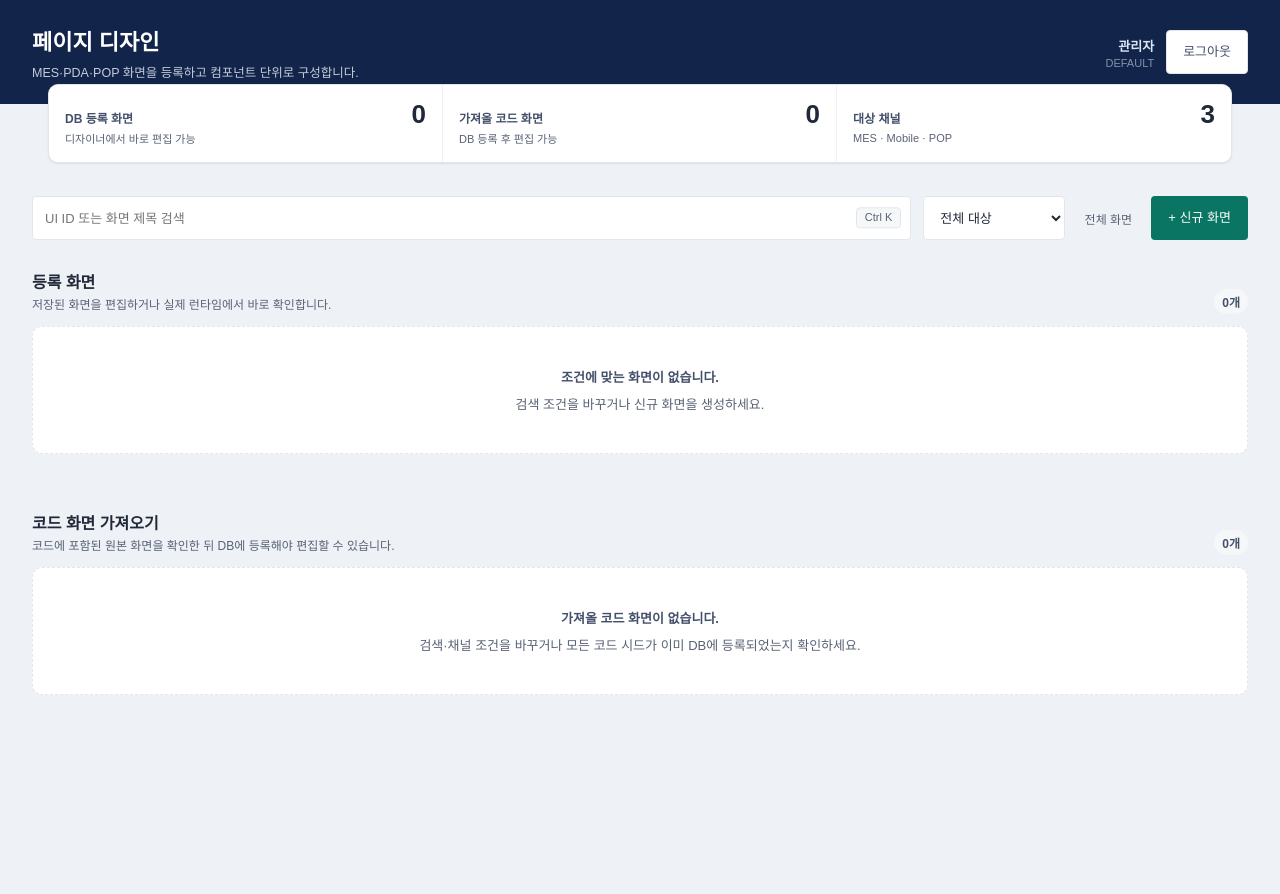
Scenario: DesignerHome › 목록에 없는 코드 시드 alias도 서버 canonical 조회로 찾아 빈 화면 생성을 차단
Expected: the text "조건에 맞는 화면이 없습니다." is shown, [561,370,719,385]
Step 1. Click the button "+ 신규 화면" → x=1200, y=218, box [1151,196,1248,240]
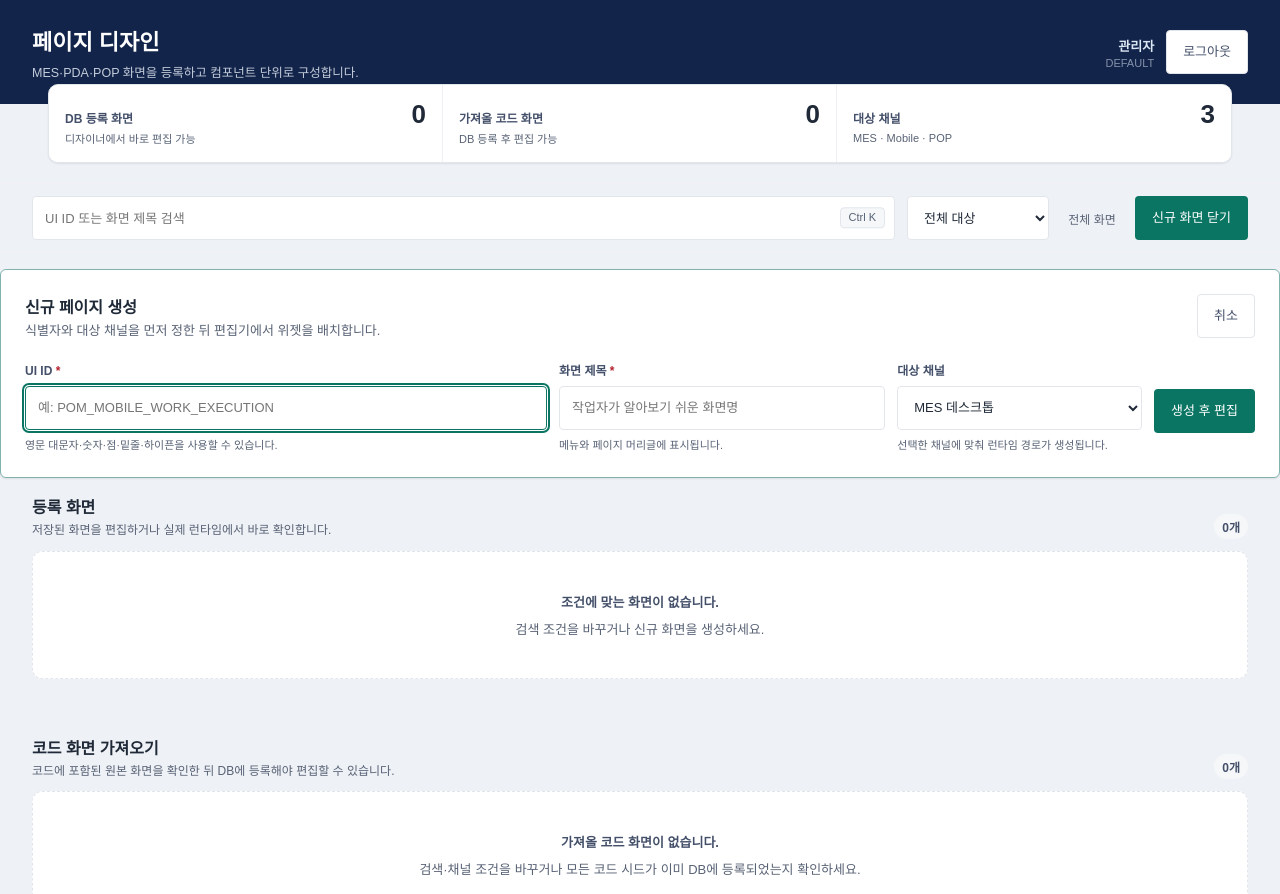
Step 2. Type "SLS_ORDER_ALIAS" into the field labelled "UI ID" → x=286, y=408, box [25,386,547,430]
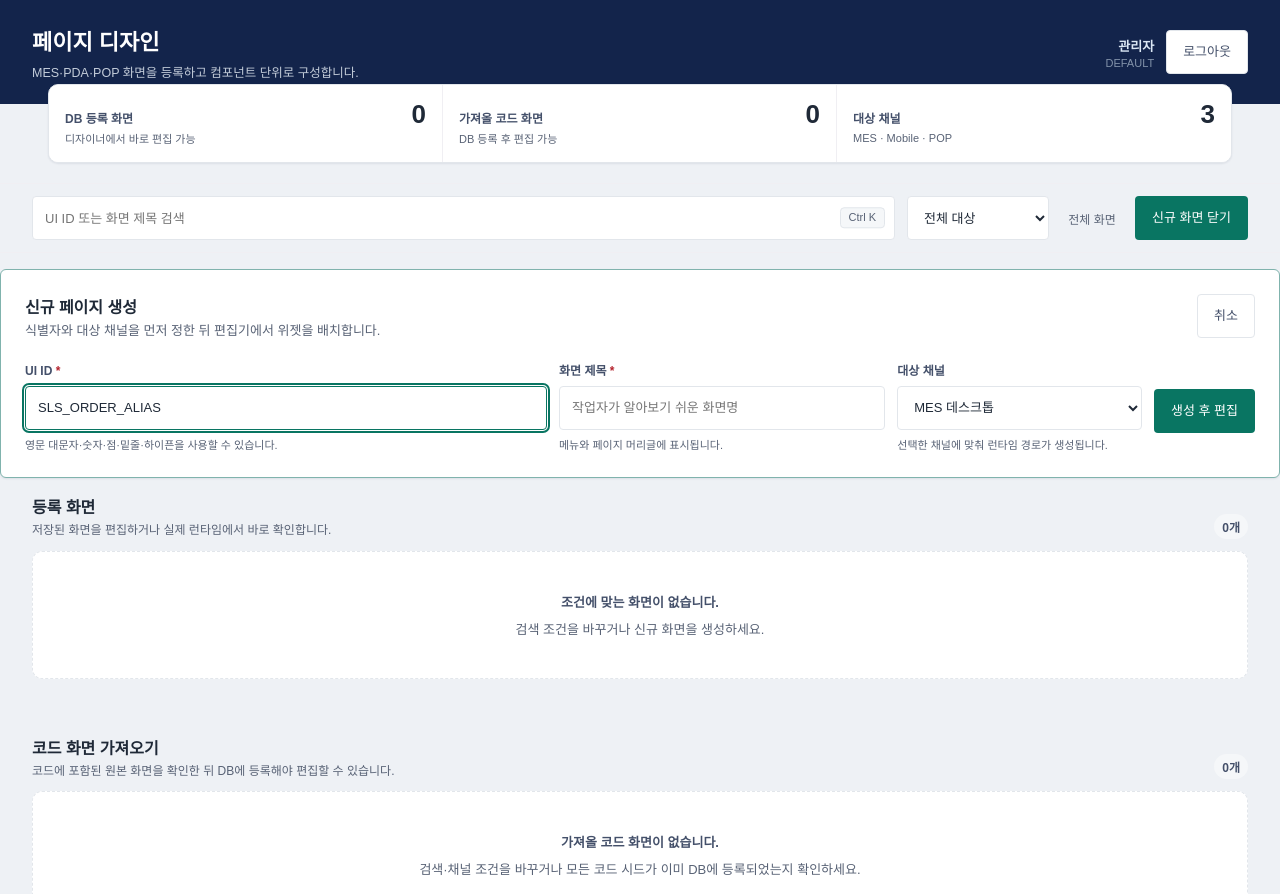
Step 3. Type "잘못된 빈 화면" into the field labelled "화면 제목" → x=722, y=408, box [559,386,885,430]
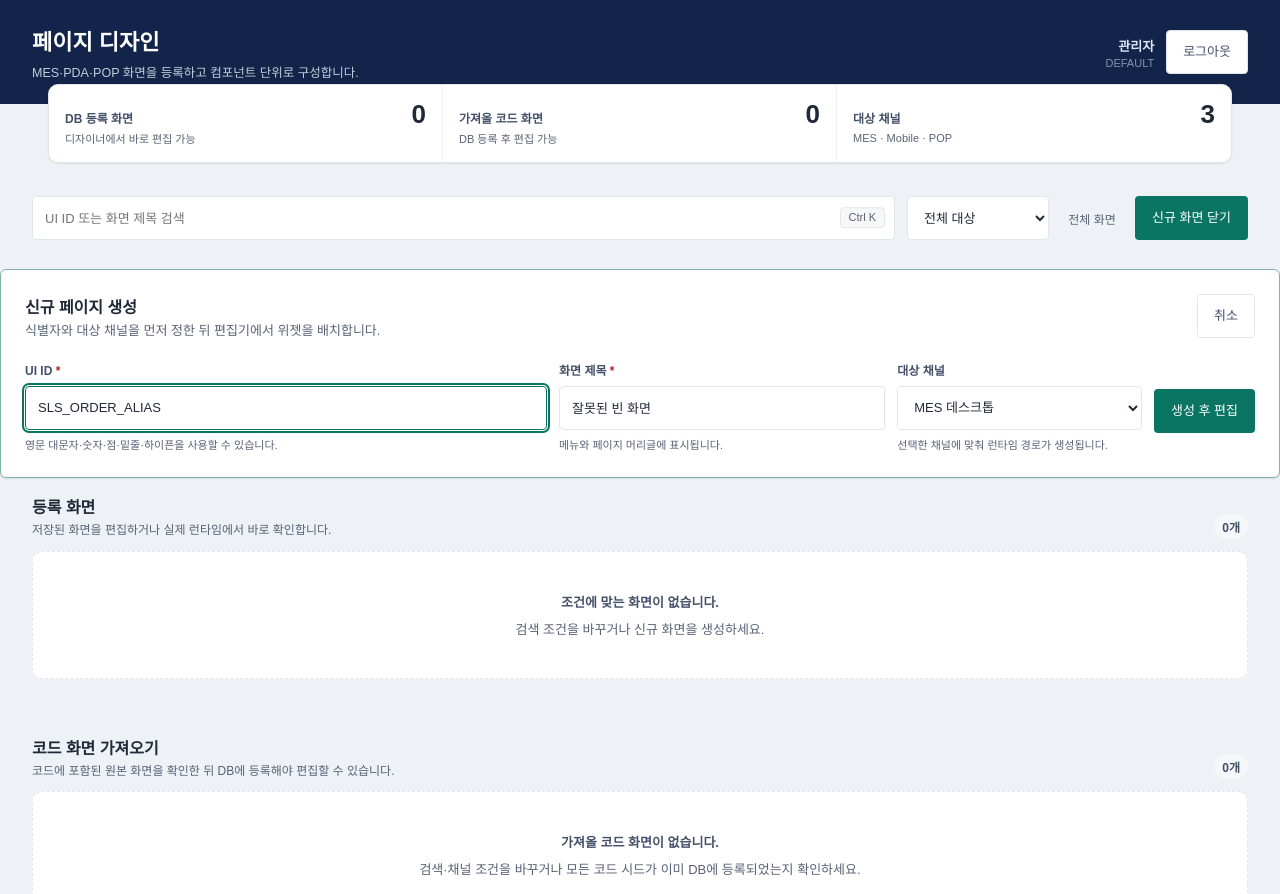
Step 4. Click the button "생성 후 편집" → x=1204, y=411, box [1154,389,1255,433]
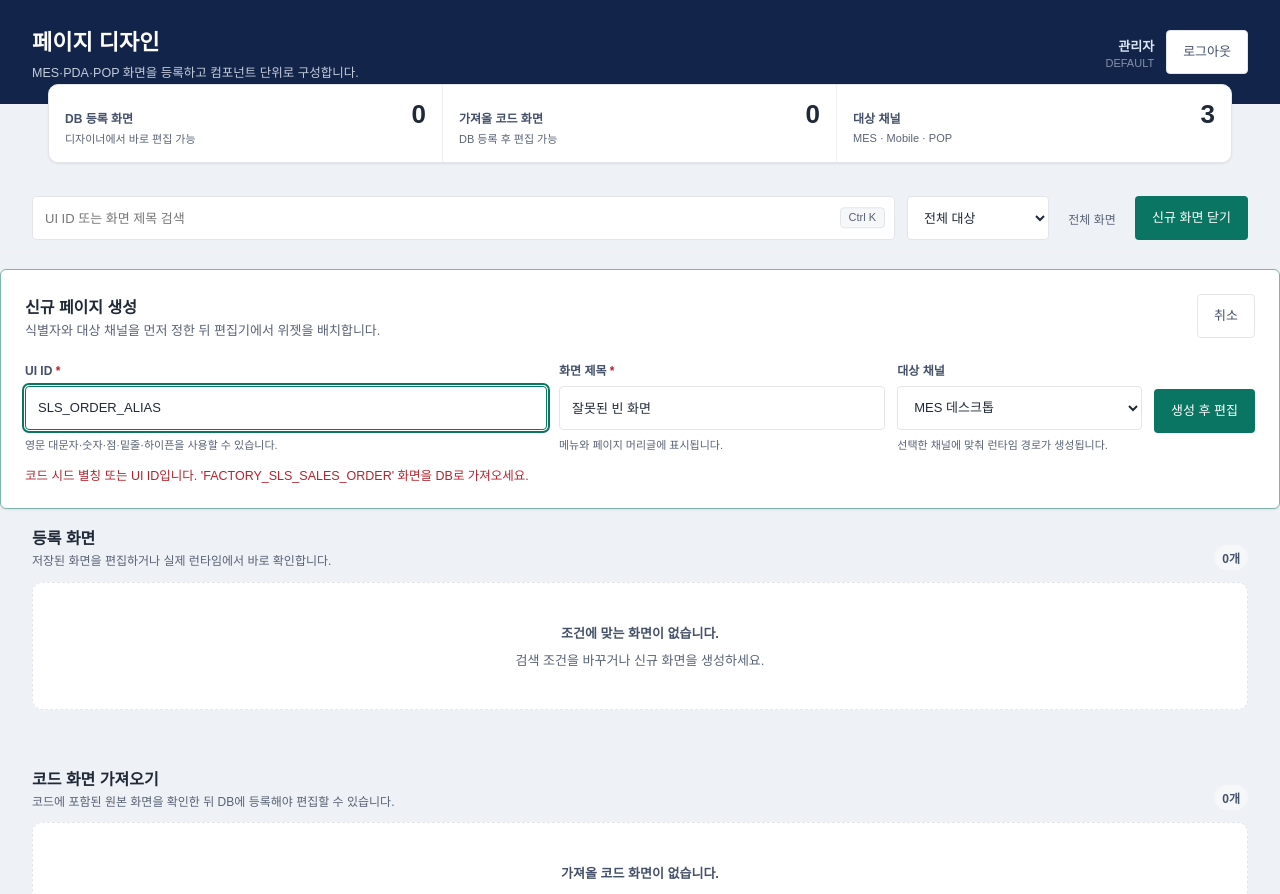
Now the message shows "'FACTORY_SLS_SALES_ORDER' 화면을 DB로 가져오세요.", box [25,469,529,483]
